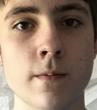without_mask: (1, 2, 97, 110)
